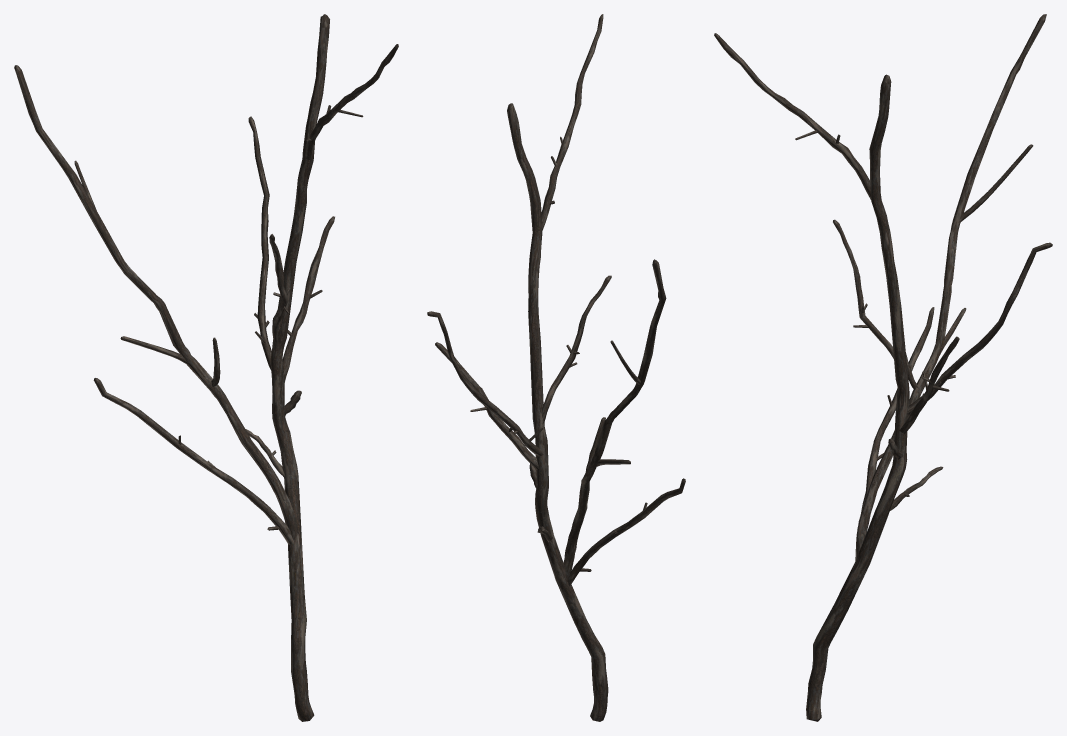
File: Branch_deadwood2_LOD1.fbx
3 renders of one model, left to right at view 1: azimuth 30°, elevation 25°; view 2: azimuth 150°, elevation 25°; view 3: azimuth 270°, elevation 25°, orthographic. The views are drawn at different scales.
Parts seen in each view (by area): view 1: polySurface7; view 2: polySurface7; view 3: polySurface7.
Boxes of the visible parts, x1,y1,x2,y2 form: polySurface7: (14,14,398,721); polySurface7: (427,14,685,721); polySurface7: (714,14,1052,721).
Bounding box in the file's own units: 129 × 312 × 135.
